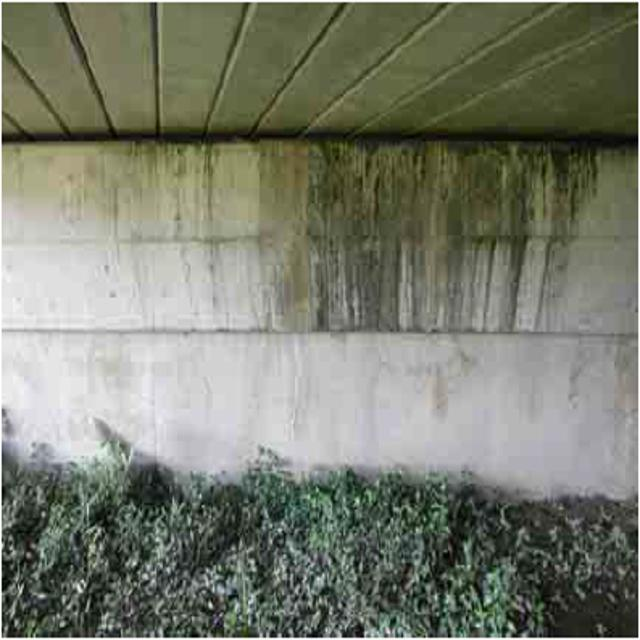leakage: (266, 124, 603, 347)
